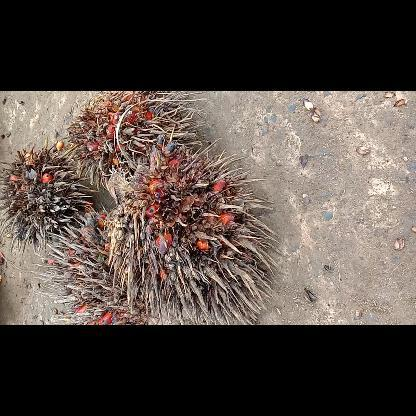Terlalu masak: (95, 136, 285, 324), (56, 91, 210, 201), (29, 204, 162, 324), (0, 142, 98, 252)
